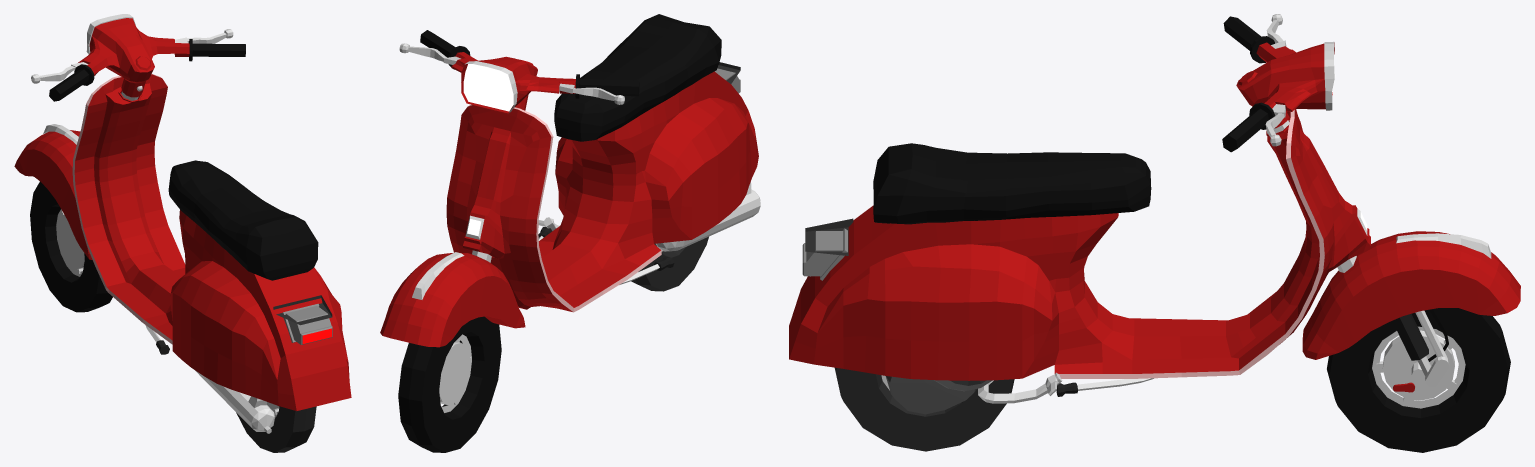
The model's file is moto3.glb.
3 views of the same model, side by side, from view 1: azimuth 30°, elevation 25°; view 2: azimuth 150°, elevation 25°; view 3: azimuth 270°, elevation 25° (orthographic). The views are drawn at different scales.
Visible parts, largest first — view 1: Body, StreeringWheel, Seat, Back whee+motor, Backlight, Backlight2; view 2: Body, StreeringWheel, Seat, Back whee+motor, Vespa_V50.004; view 3: Body, StreeringWheel, Seat, Back whee+motor, Backlight, Vespa_V50.004.
Boxes of the visible parts, box(x1,y1,x2,y2) form: Body: box(72, 74, 351, 410); StreeringWheel: box(14, 14, 245, 312); Seat: box(168, 160, 318, 280); Back whee+motor: box(195, 370, 316, 452); Backlight: box(282, 303, 332, 344); Backlight2: box(273, 295, 332, 325); Body: box(446, 71, 758, 312); StreeringWheel: box(380, 30, 639, 452); Seat: box(554, 14, 721, 141); Back whee+motor: box(538, 181, 760, 291); Vespa_V50.004: box(538, 227, 674, 284); Body: box(789, 109, 1370, 380); StreeringWheel: box(1222, 14, 1520, 452); Seat: box(873, 143, 1151, 224); Back whee+motor: box(834, 367, 1061, 451); Backlight: box(802, 228, 847, 280); Vespa_V50.004: box(1056, 378, 1153, 396).
Size of the model in its own units: 0.6491 by 0.973 by 1.62.
